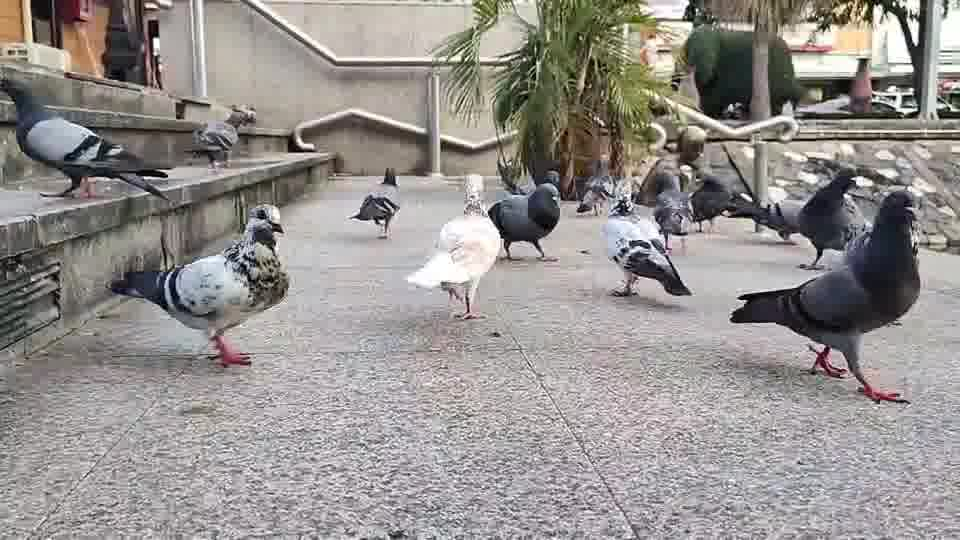Pigeon: (728, 188, 921, 404), (104, 202, 290, 368), (0, 62, 171, 201), (406, 173, 500, 320), (600, 190, 692, 297), (796, 173, 869, 270), (487, 181, 561, 262), (185, 104, 257, 170), (345, 166, 401, 239), (687, 174, 739, 233)
